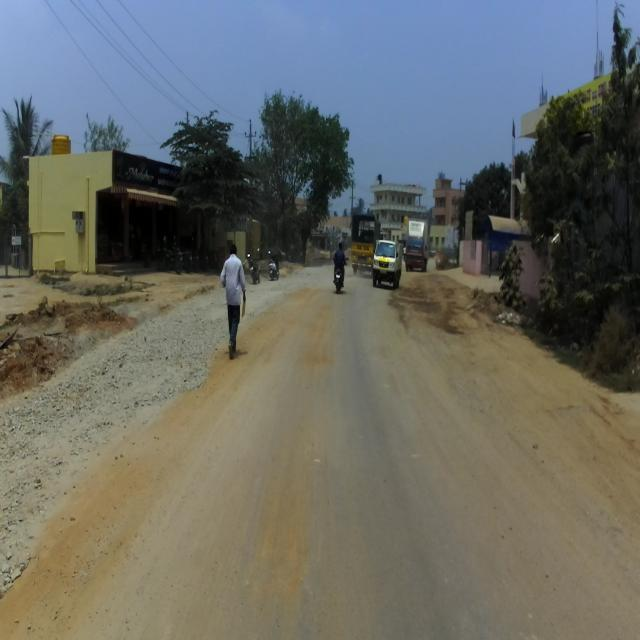car ahead at: (369, 235, 403, 292)
person ahead at: (216, 238, 251, 366)
